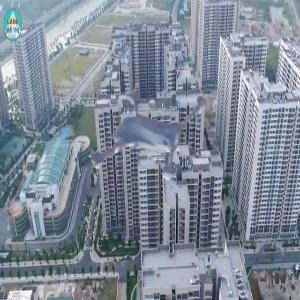drone: (66, 78, 210, 222)
